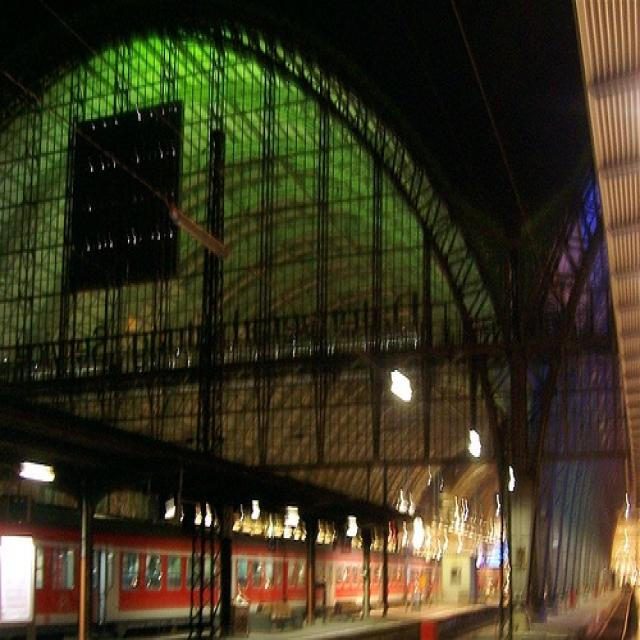train: (0, 520, 442, 634)
